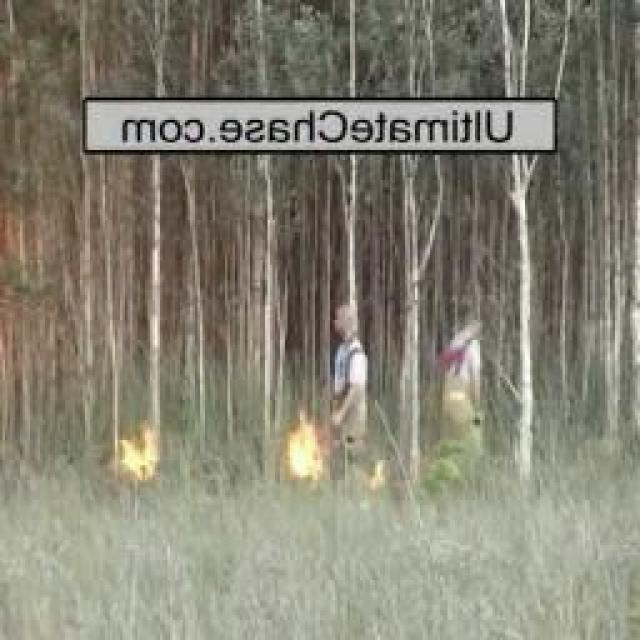Fire: (113, 419, 162, 482), (288, 410, 320, 488), (367, 455, 392, 497)
